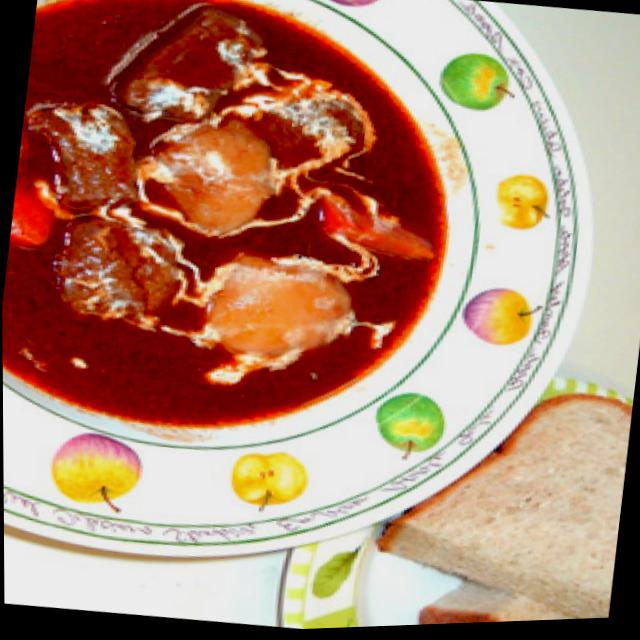汤锅炖物: (0, 0, 623, 620)
